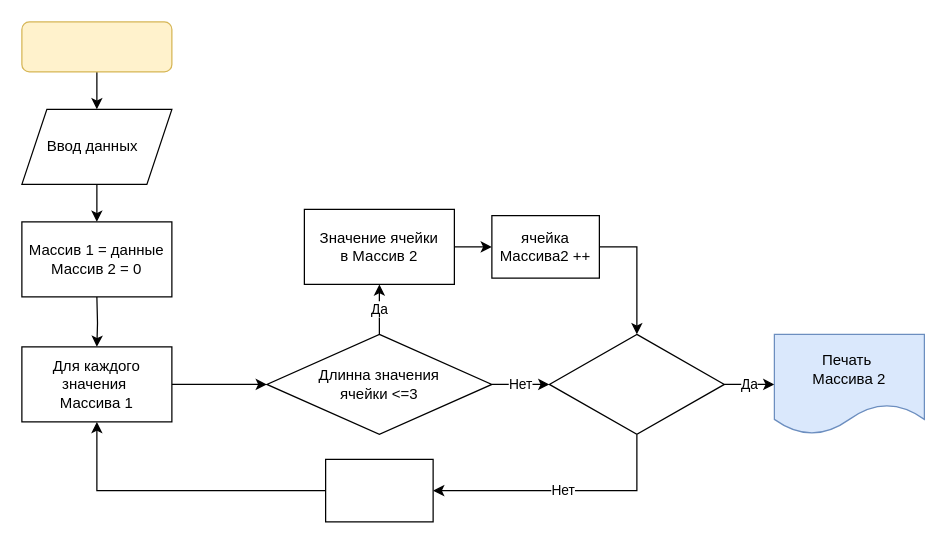
Some shapes in this 946 by 544 pixel diagram are drawn without their labels. Each missing label, with the box of its shape:
Массив 1 завершен?: (548, 333, 724, 434)
Начало: (21, 21, 172, 72)
ячейка Массива1 ++: (324, 458, 433, 522)
